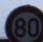Speed Limit -80-: (0, 0, 42, 41)
